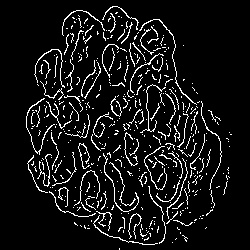red_onion: (143, 144, 187, 202), (39, 126, 76, 186), (144, 85, 180, 140), (30, 48, 63, 101), (137, 15, 175, 55), (78, 169, 111, 214), (103, 43, 128, 84)
